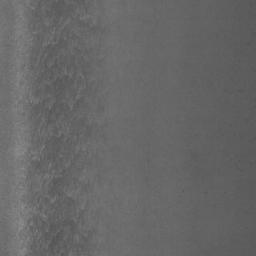Silk spot: (15, 0, 110, 256)
